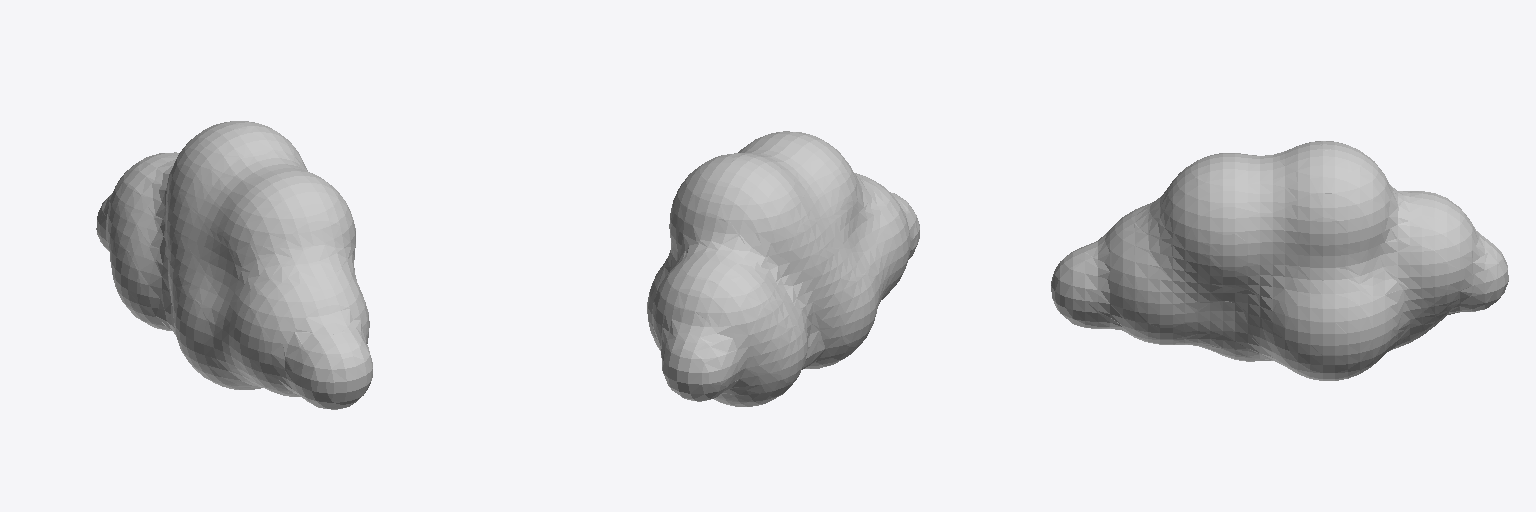
Rendered from cloud.obj.
The picture shows the model from 3 angles: view 1: azimuth 30°, elevation 25°; view 2: azimuth 150°, elevation 25°; view 3: azimuth 270°, elevation 25°; orthographic projection.
Parts seen in each view (by area): view 1: Mball; view 2: Mball; view 3: Mball.
Boxes of the visible parts, <box> form: Mball: <box>96,121,372,409</box>; Mball: <box>647,131,919,406</box>; Mball: <box>1051,141,1508,380</box>.
Size of the model in its own units: 3.84 by 4.72 by 8.79.